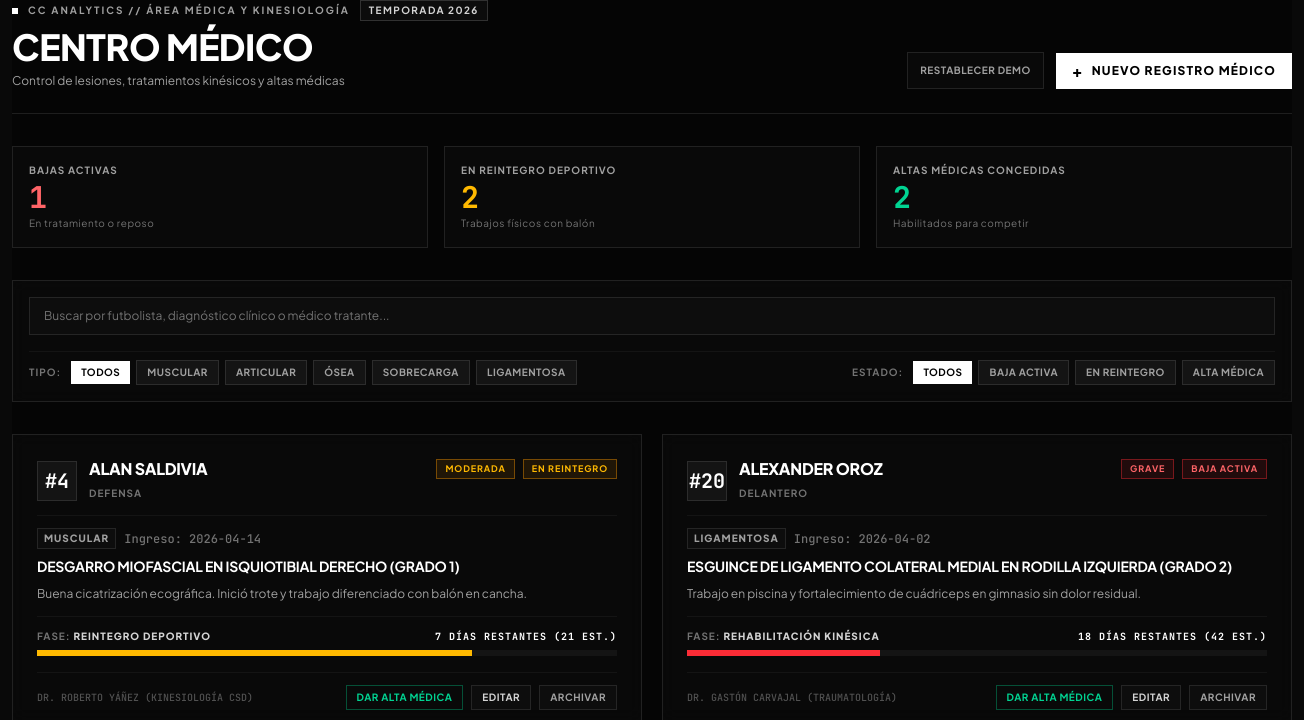
Test case: Módulo de Centro Médico y Control de Lesiones (Pantalla 7) › permite otorgar el alta médica y actualiza el estado clínico del futbolista
Note: Presionar el primer boton de alta medica disponible
Click the button "Dar Alta Médica" next to "Dr. Roberto Yáñez (Kinesiología CSD)": click(404, 697) x1=346 y1=685 x2=463 y2=710
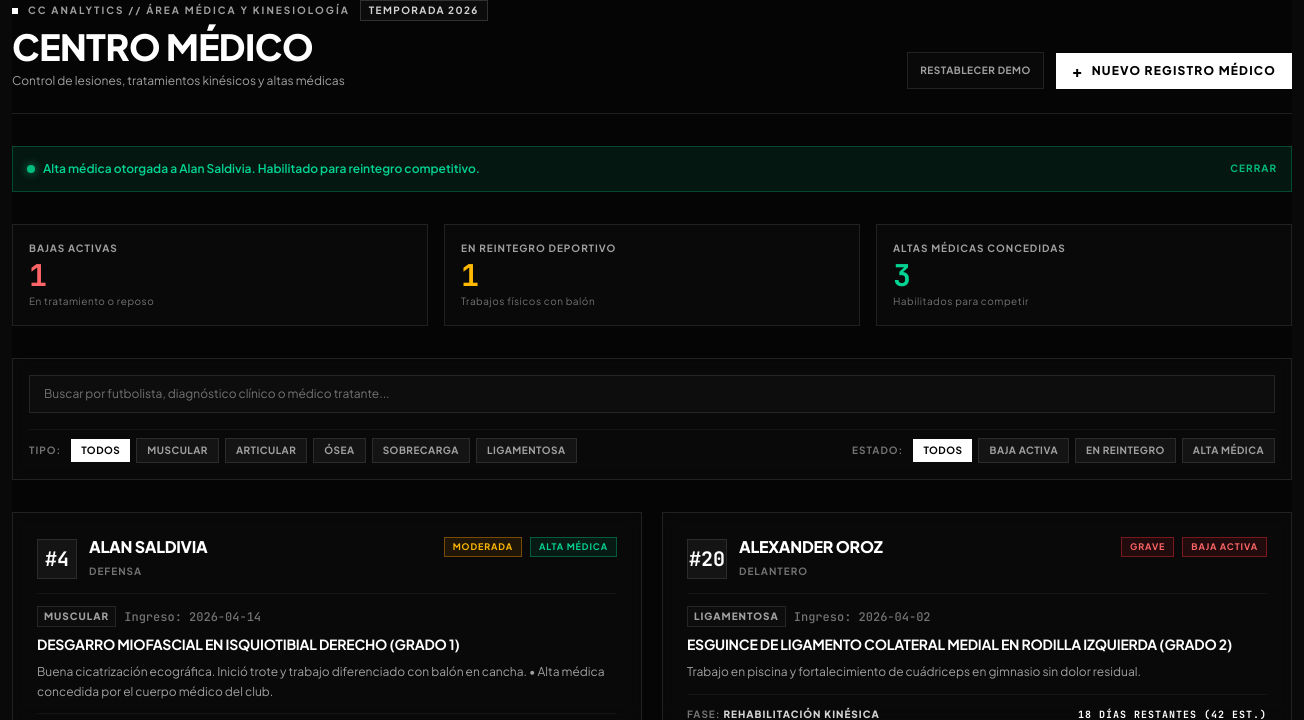
Expected: the text "Alta médica otorgada a" is shown, x1=43 y1=161 x2=480 y2=176
